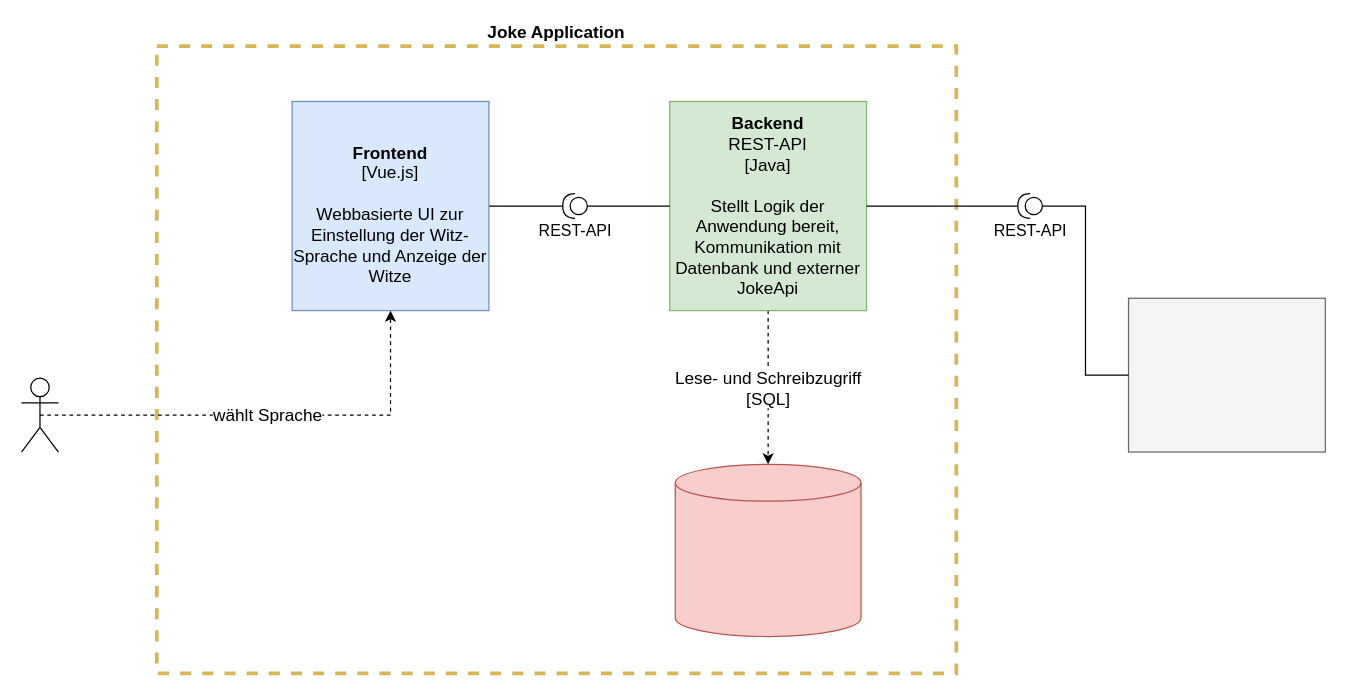
The diagram is 1347 pixels wide and 696 high, and some of its shapes have lost their labels. Here are the shapes that lost their labels. From the top down, the box of each, then its label:
(1127, 297, 1325, 452): Externe REST-API Stellt Witze zur Verfügung
(20, 377, 58, 452): User
(674, 463, 861, 637): Datenbank [h2 in-memory] Speichert Witze, welche von JokeApi abgerufen werden
